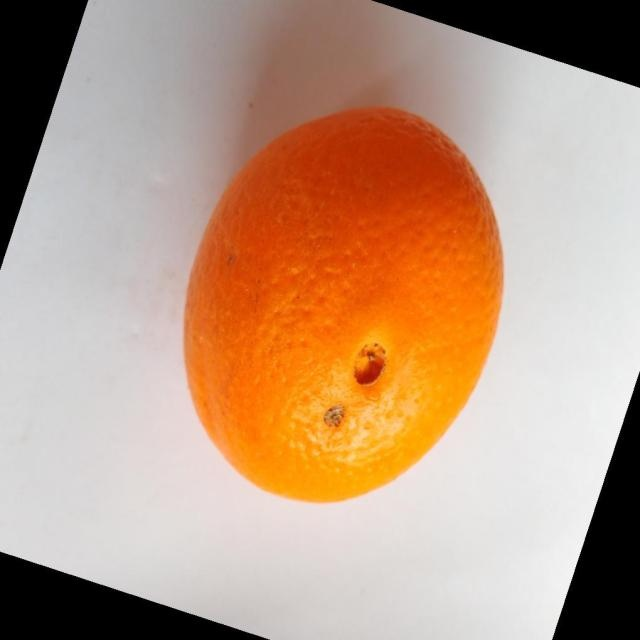agrume: (181, 104, 504, 504)
